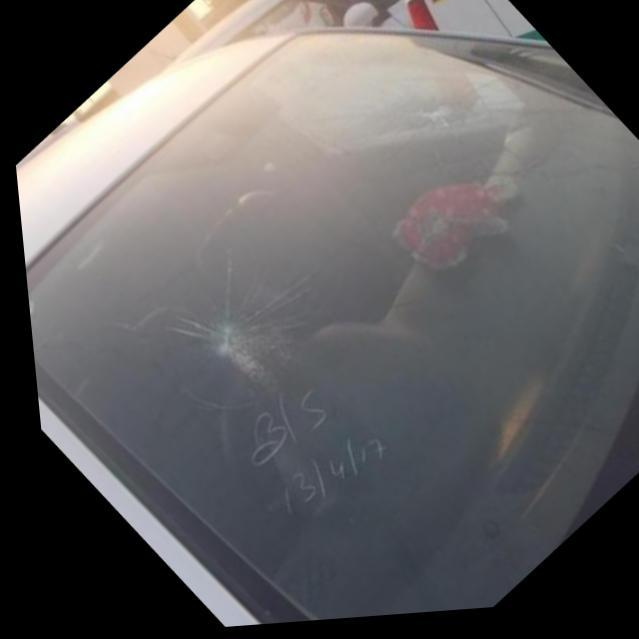glass shatter: (150, 264, 301, 394)
